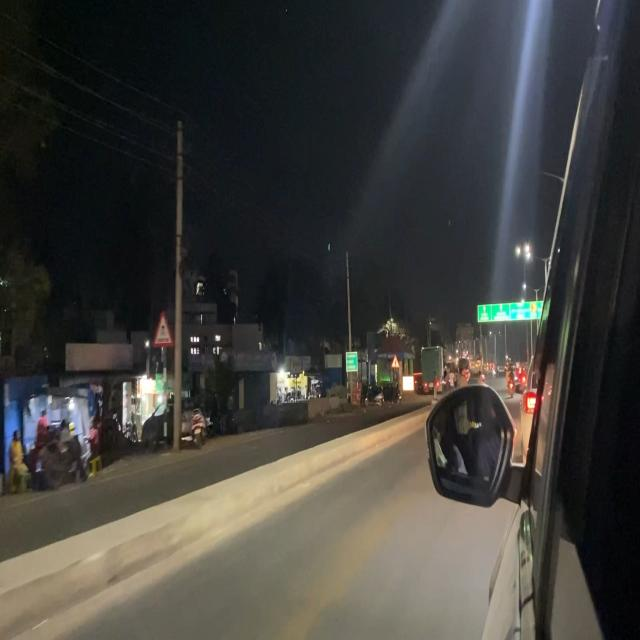bien_cam: (154, 312, 172, 347), (390, 352, 400, 370)
